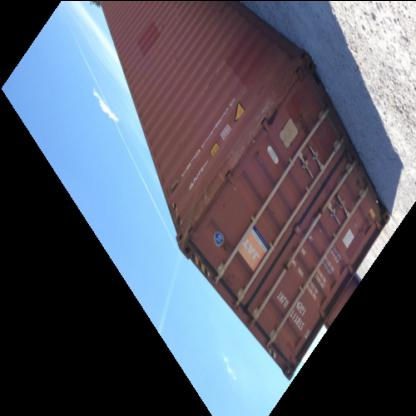Damage: (180, 172, 222, 230), (258, 61, 294, 125), (226, 117, 258, 182)
